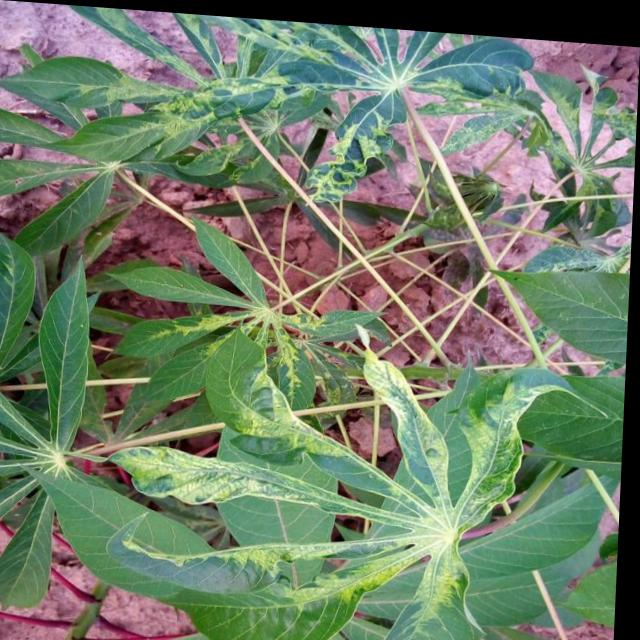Mosaico: (162, 362, 514, 639), (161, 257, 366, 420), (267, 28, 477, 182)
